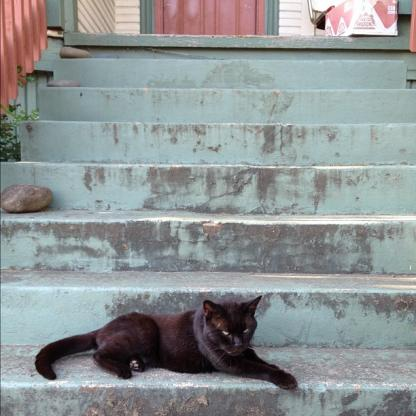Target: (32, 293, 304, 395)
